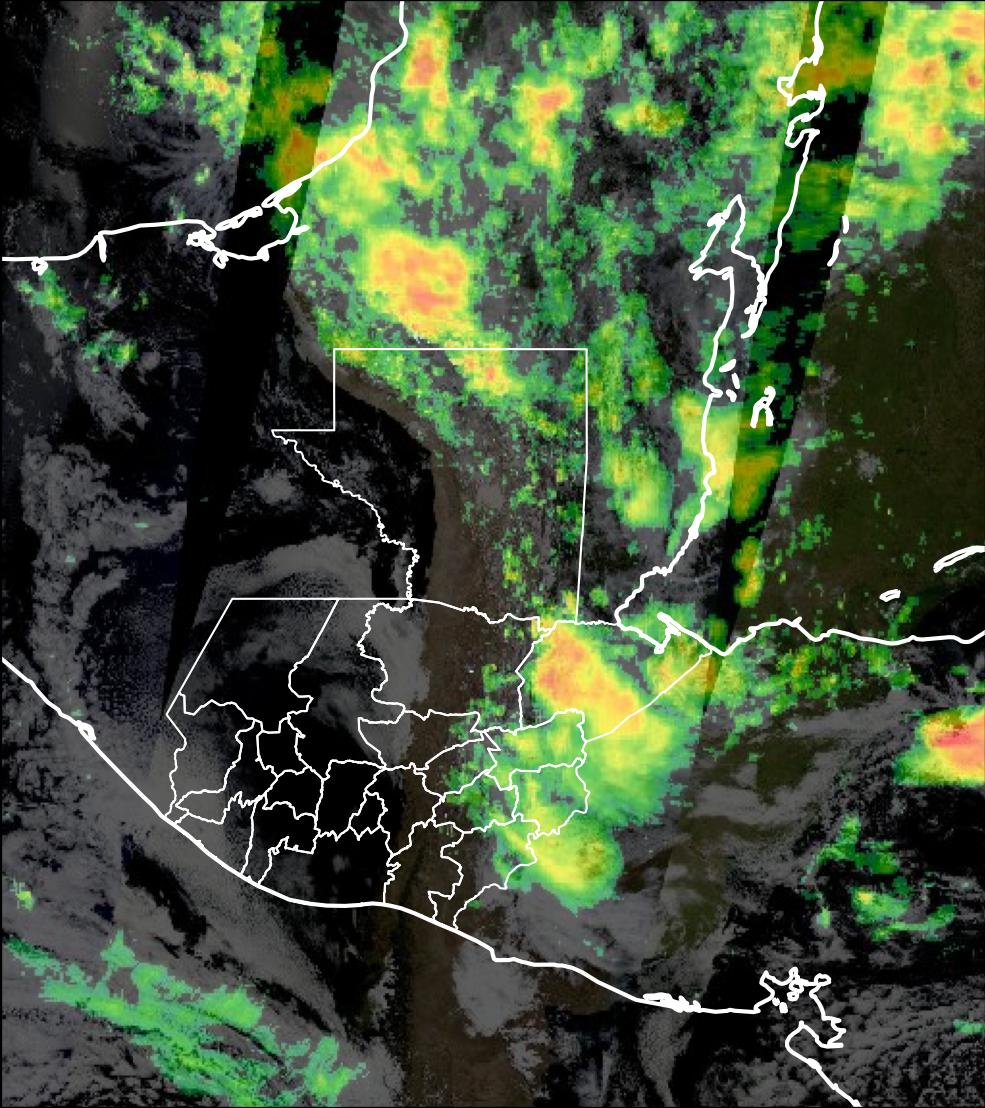precipitacion: (375, 235, 467, 344), (403, 27, 459, 119), (917, 705, 985, 780)
